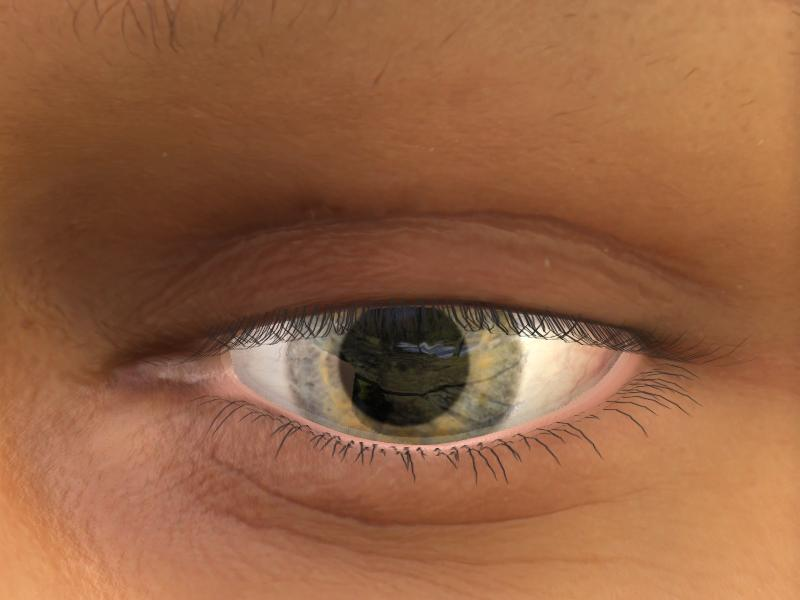eye: (288, 303, 520, 439)
